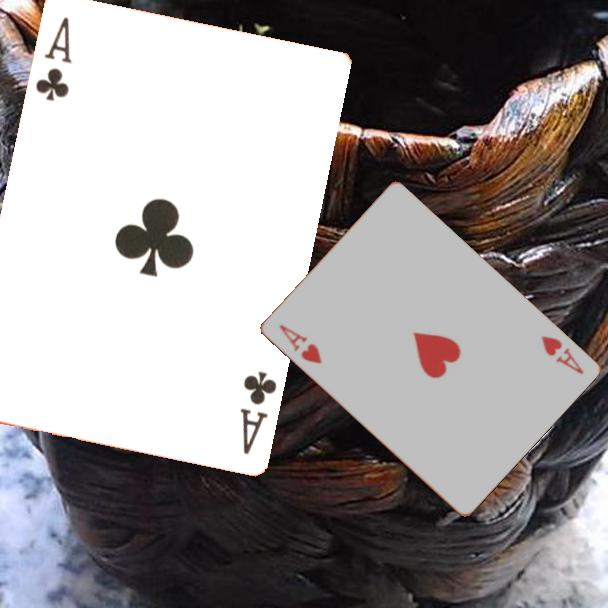c01: (236, 367, 280, 457), (31, 13, 74, 104)
h01: (275, 321, 324, 367), (537, 332, 586, 377)
